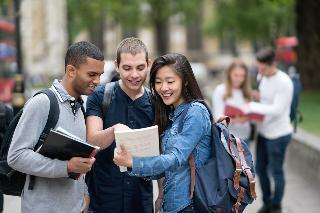person - v3 P: (114, 54, 211, 212), (86, 38, 153, 212), (8, 94, 95, 212), (248, 47, 293, 212), (213, 59, 251, 120), (0, 103, 13, 141)
